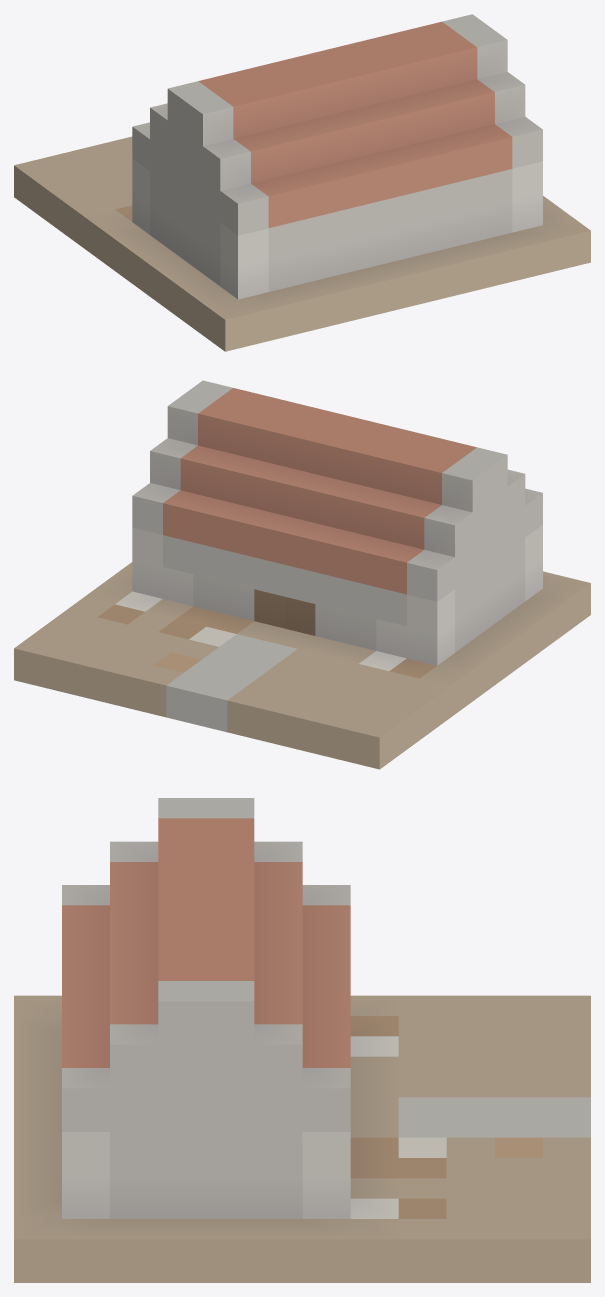
The model's file is warehouse.l2.lite.glb.
3 renders of one model, top to bottom at view 1: azimuth 30°, elevation 25°; view 2: azimuth 150°, elevation 25°; view 3: azimuth 270°, elevation 25°, orthographic. The views are drawn at different scales.
Parts seen in each view (by area): view 1: warehouse; view 2: warehouse; view 3: warehouse.
Part boxes in pixels (left/top/right/bottom): warehouse: left=14, top=14, right=590, bottom=351; warehouse: left=14, top=380, right=590, bottom=769; warehouse: left=14, top=798, right=590, bottom=1282.
Size of the model in its own units: 6 by 3 by 6.
